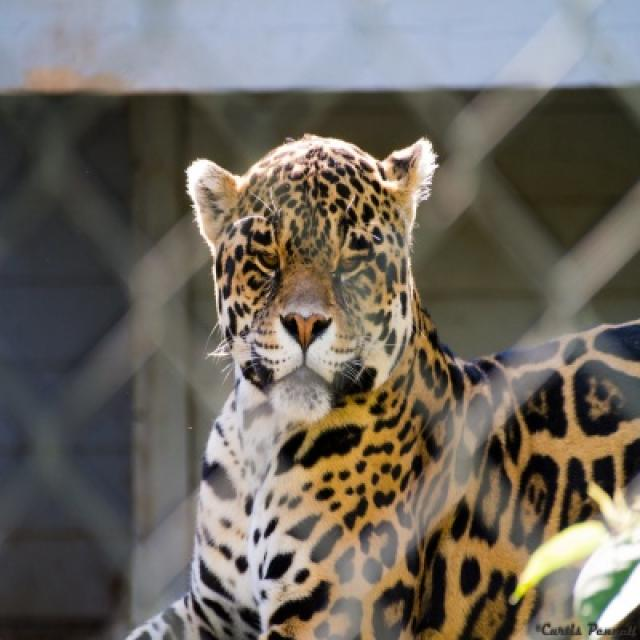Jaguar: (131, 136, 638, 638)
